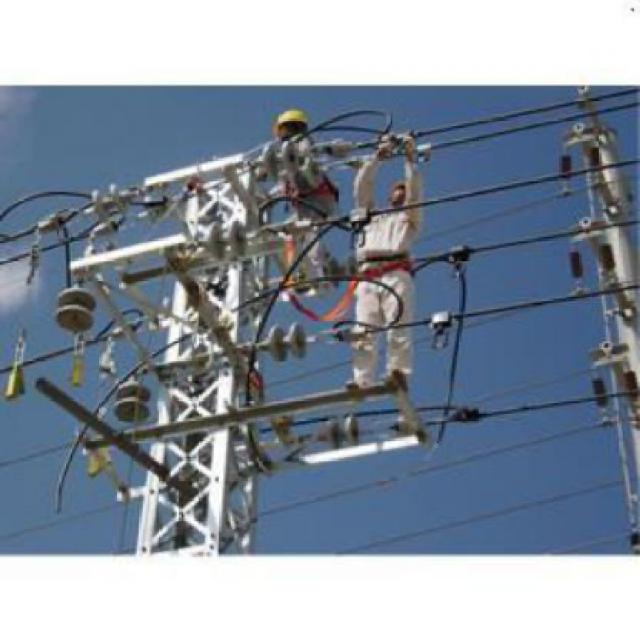helmet: (271, 105, 315, 149)
